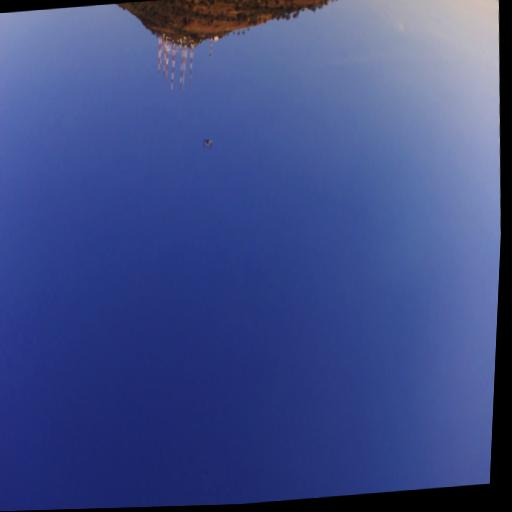drones: (202, 136, 215, 150)
